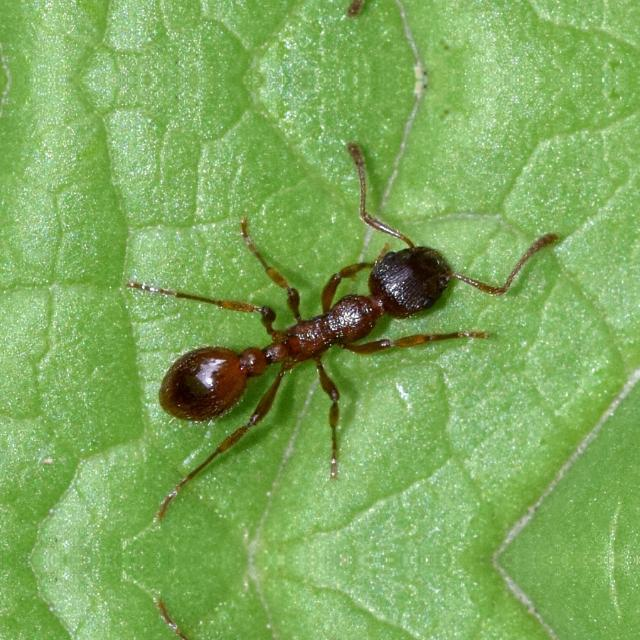Myrmica: (152, 215, 472, 441)
